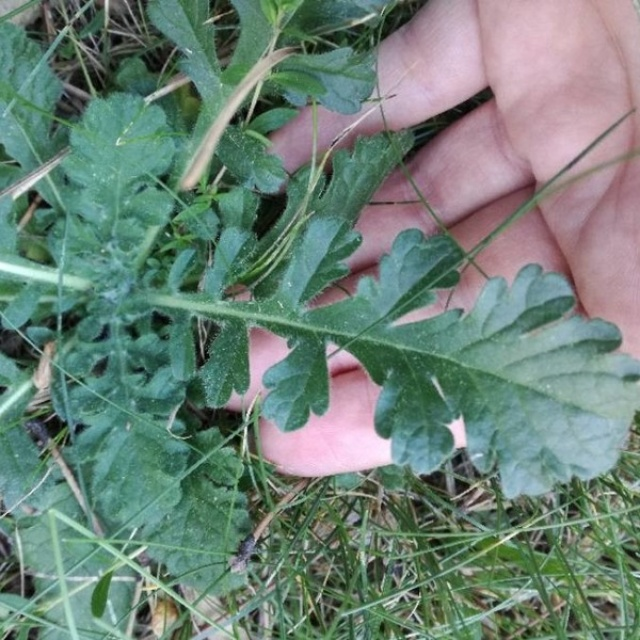obstacle: (31, 70, 618, 508)
